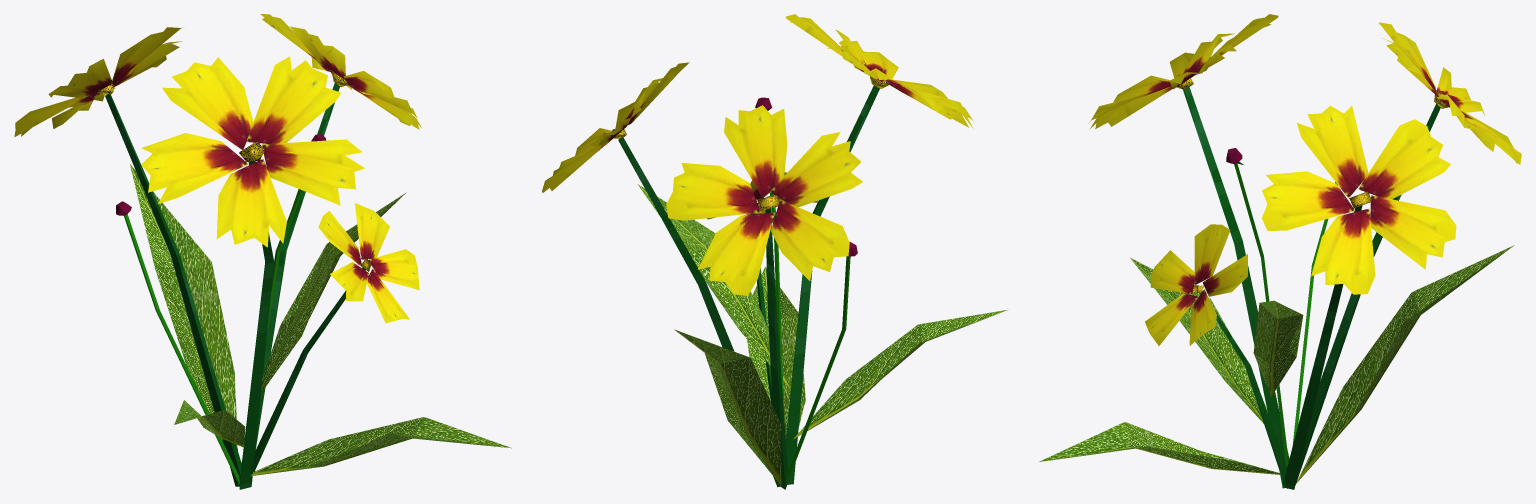
Rendered from flower_yellow.glb.
3 renders of one model, left to right at view 1: azimuth 30°, elevation 25°; view 2: azimuth 150°, elevation 25°; view 3: azimuth 270°, elevation 25°, orthographic.
Visible parts, largest first — view 1: Circle.003; view 2: Circle.003; view 3: Circle.003.
Part boxes in pixels (bbox=[...]): Circle.003: bbox=[14, 14, 511, 489]; Circle.003: bbox=[542, 14, 1008, 489]; Circle.003: bbox=[1039, 14, 1521, 489].
Size of the model in its own units: 1.44 by 1.77 by 1.73.
7 materials, 4 textured.
